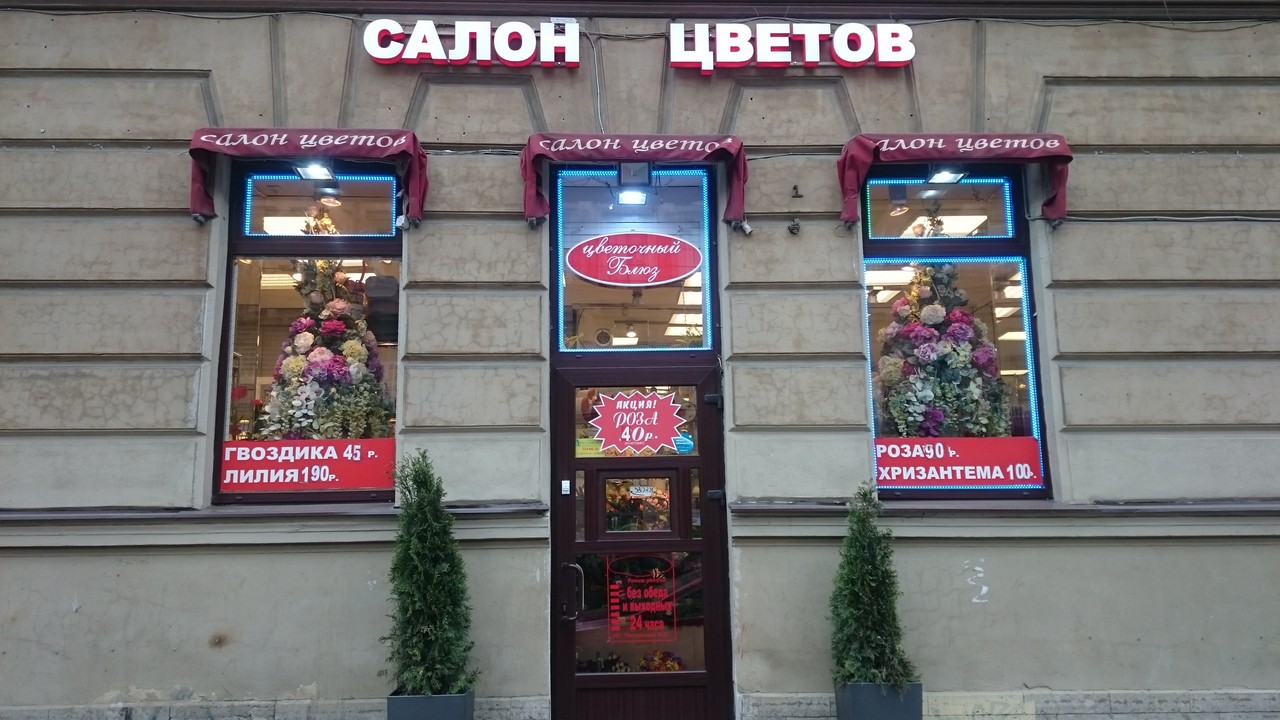door: (549, 368, 724, 720)
signboard: (363, 17, 917, 71)
window: (220, 254, 400, 504), (867, 257, 1029, 502), (548, 162, 715, 367)
